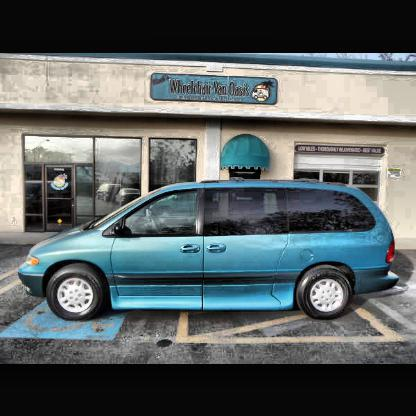Dodge Caravan Minivan 1997: (19, 179, 402, 323)
